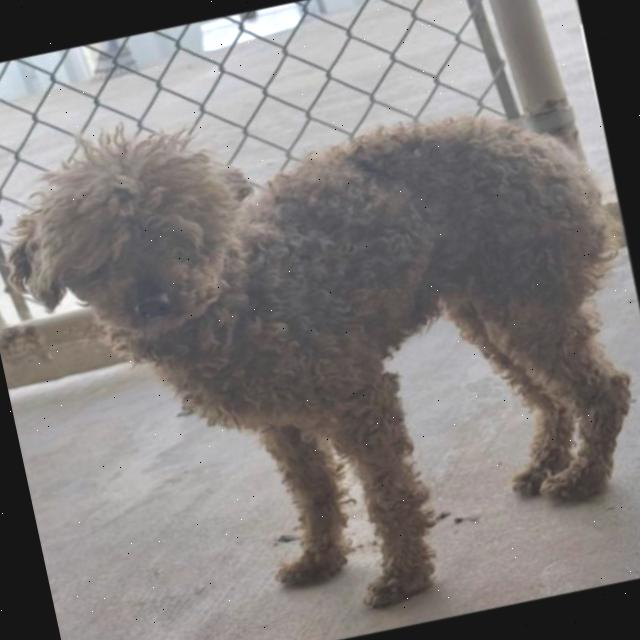Poodle_dog: (0, 83, 305, 398)
